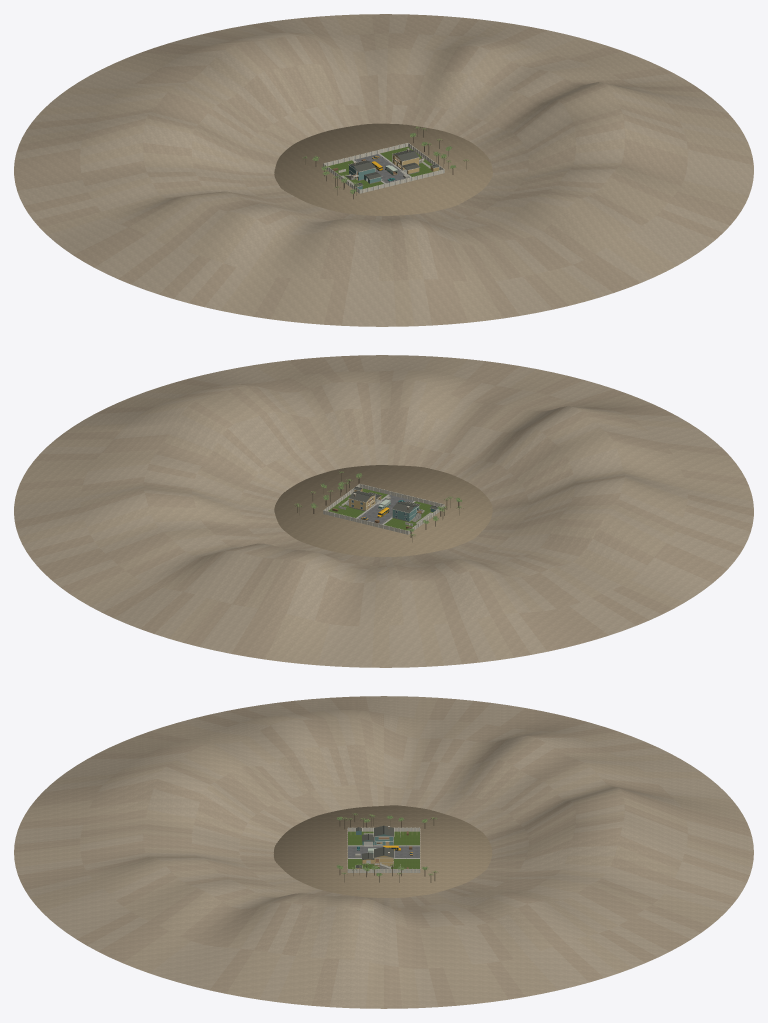
File: environment-refined.glb
3 views of the same model, one above another, from view 1: azimuth 30°, elevation 25°; view 2: azimuth 150°, elevation 25°; view 3: azimuth 270°, elevation 25° (orthographic).
Visible parts, largest first — view 1: Horizon_Release_RefinedCliff, Release_RefinedLimestoneTrim, Release_RefinedGroundGrass, Release_RefinedGroundRoof, Release_RefinedLimestoneSiding; view 2: Horizon_Release_RefinedCliff, Release_RefinedLimestoneTrim, Release_RefinedGroundGrass; view 3: Horizon_Release_RefinedCliff, Release_RefinedGroundGrass, Release_RefinedLimestoneTrim, Release_RefinedGroundRoof.
Boxes of the visible parts, bbox=[...] form: Horizon_Release_RefinedCliff: bbox=[14, 14, 753, 326]; Release_RefinedLimestoneTrim: bbox=[323, 143, 444, 193]; Release_RefinedGroundGrass: bbox=[328, 146, 439, 189]; Release_RefinedGroundRoof: bbox=[349, 150, 439, 186]; Release_RefinedLimestoneSiding: bbox=[349, 154, 438, 189]; Horizon_Release_RefinedCliff: bbox=[14, 355, 753, 667]; Release_RefinedLimestoneTrim: bbox=[323, 484, 444, 534]; Release_RefinedGroundGrass: bbox=[328, 488, 432, 530]; Horizon_Release_RefinedCliff: bbox=[14, 696, 753, 1008]; Release_RefinedGroundGrass: bbox=[348, 831, 419, 868]; Release_RefinedLimestoneTrim: bbox=[347, 826, 420, 872]; Release_RefinedGroundRoof: bbox=[355, 825, 393, 868].
Bounding box in the file's own units: 470 × 33.12 × 470.
33 materials, 15 textured.
